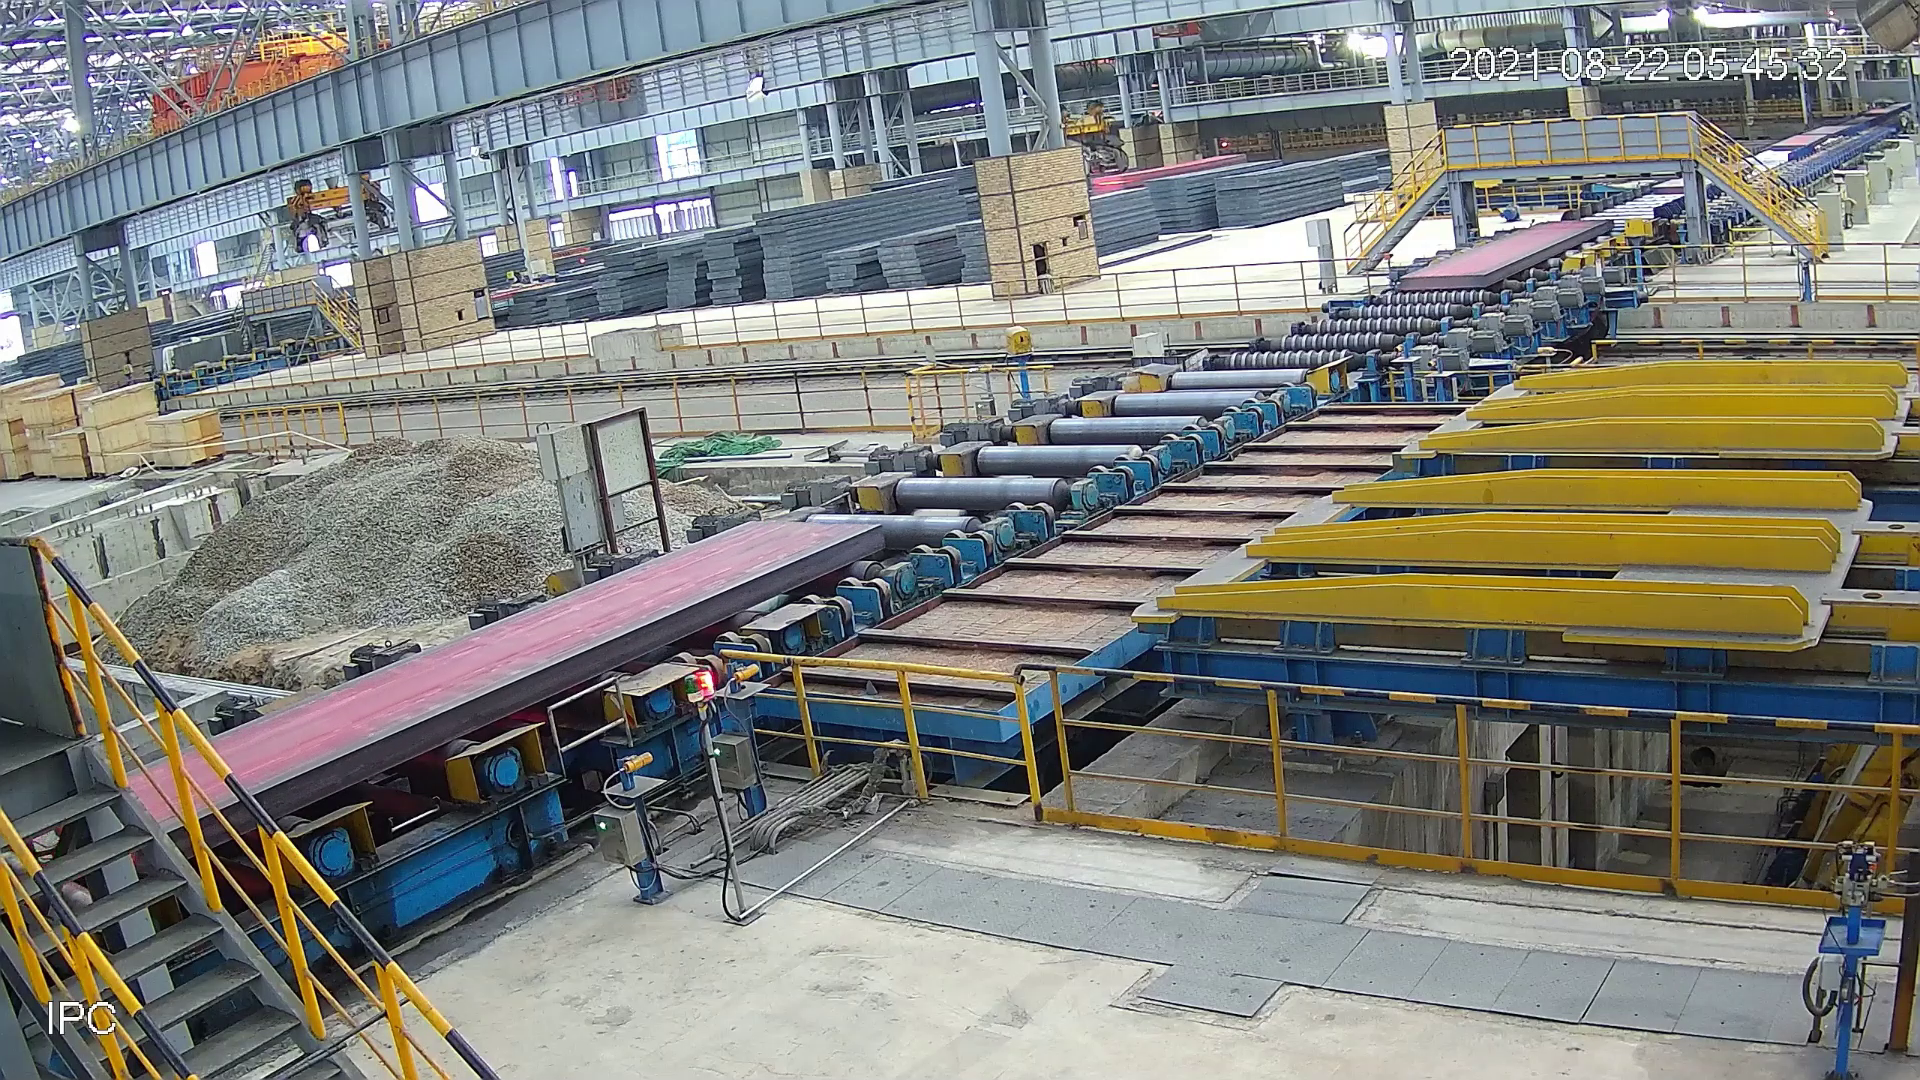slab: (98, 510, 895, 861), (1391, 214, 1619, 299)
